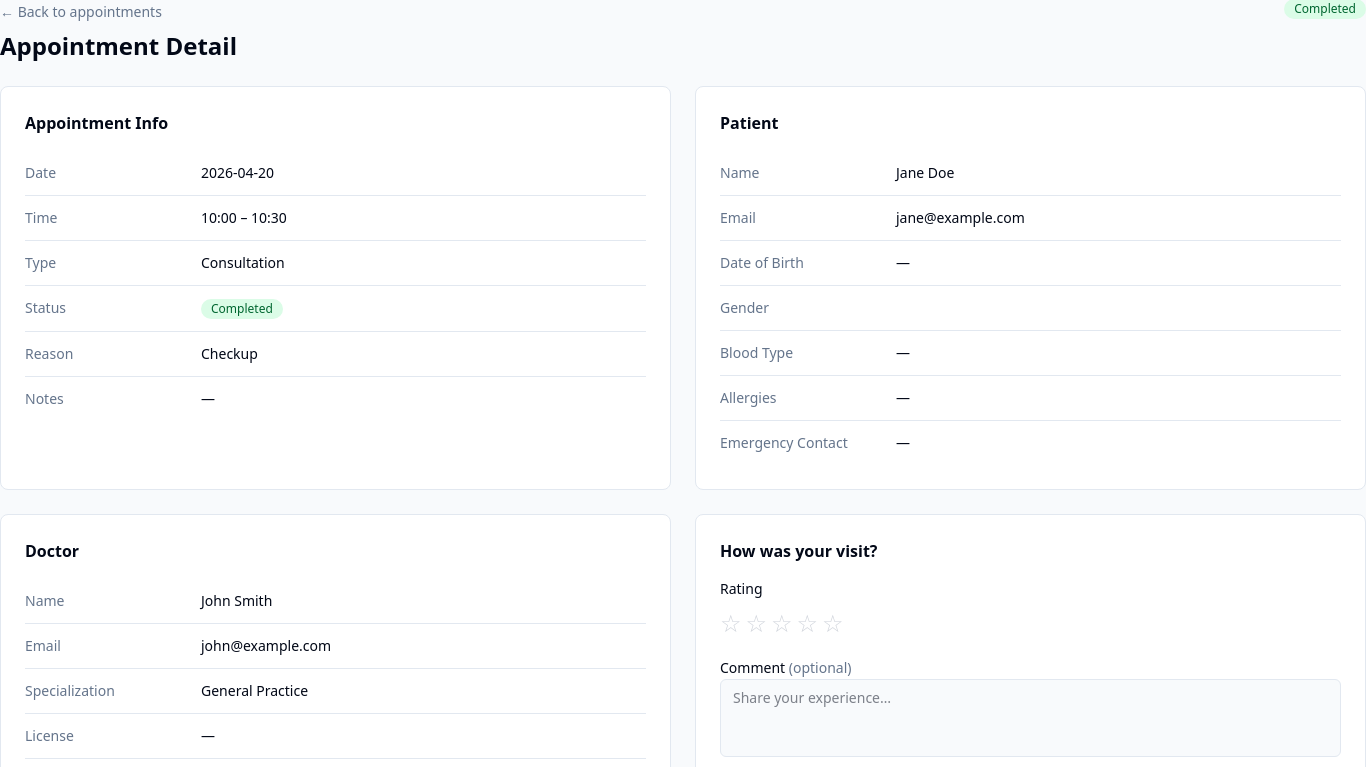
Test: AppointmentDetailPage — Review Section › submits a review successfully
The image size is (1366, 767).
// Click 4th star
Click the button with test id "star-4" at {"x": 807, "y": 623}, box [796,607,818,639]
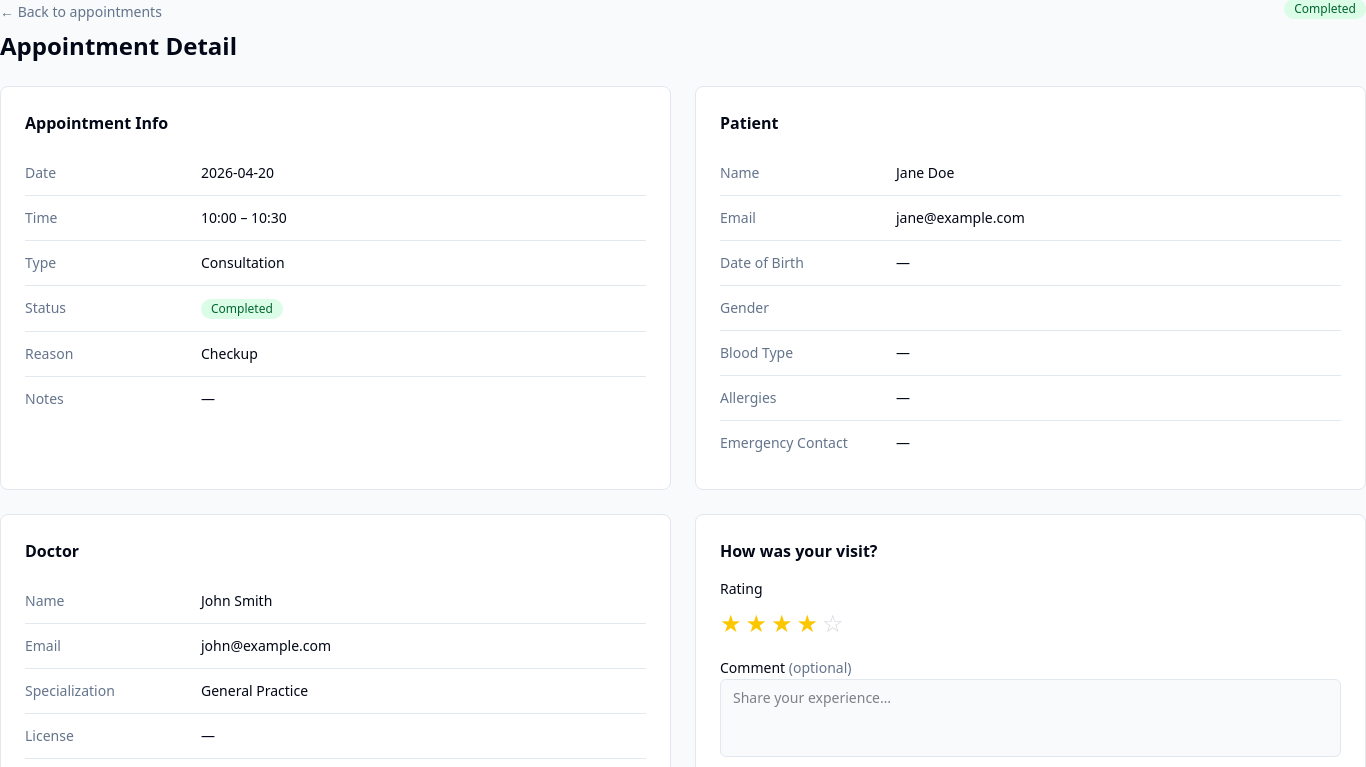
// Enter comment
Type "Great doctor!" into the text box with test id "review-comment-input" at {"x": 1030, "y": 718}, box [720,679,1341,757]
(page scrolled)
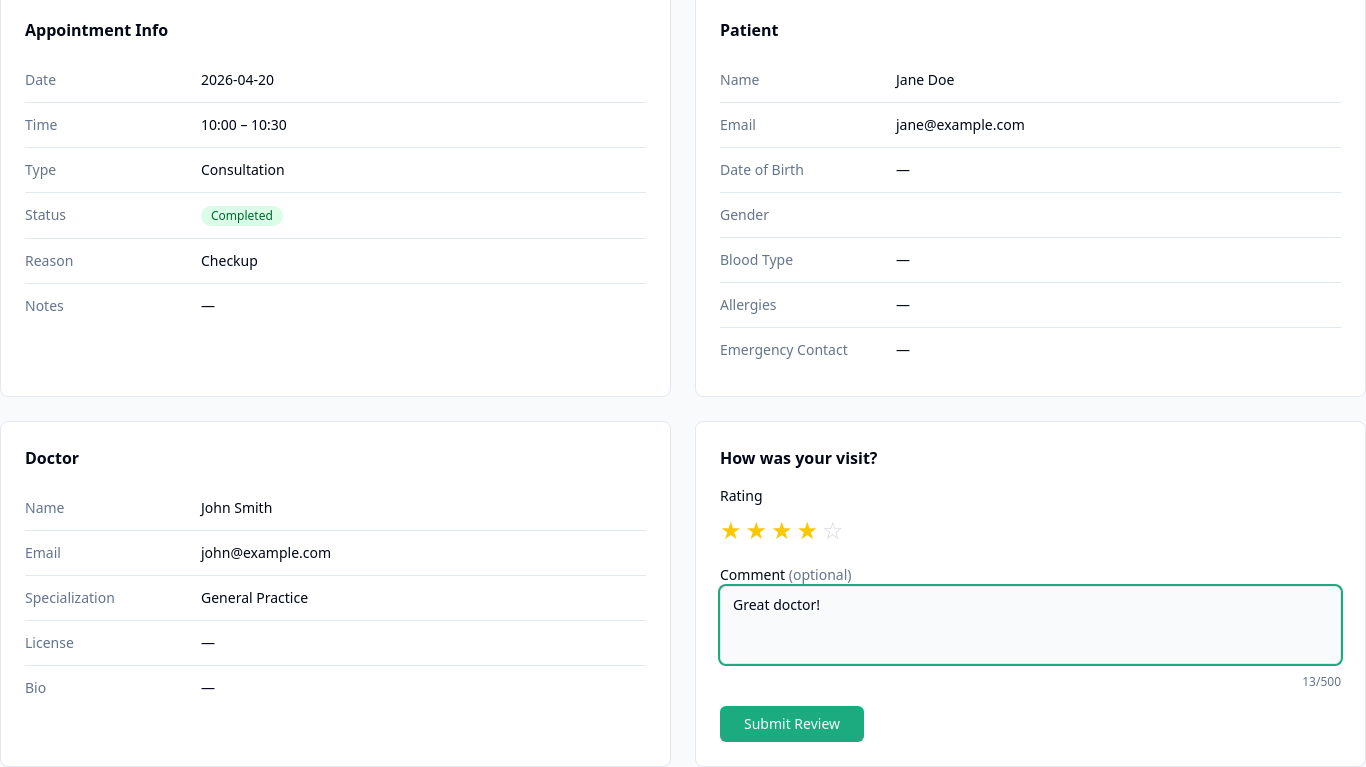
Click the button with test id "review-submit" at {"x": 792, "y": 724}, box [720,706,864,742]
(page scrolled)
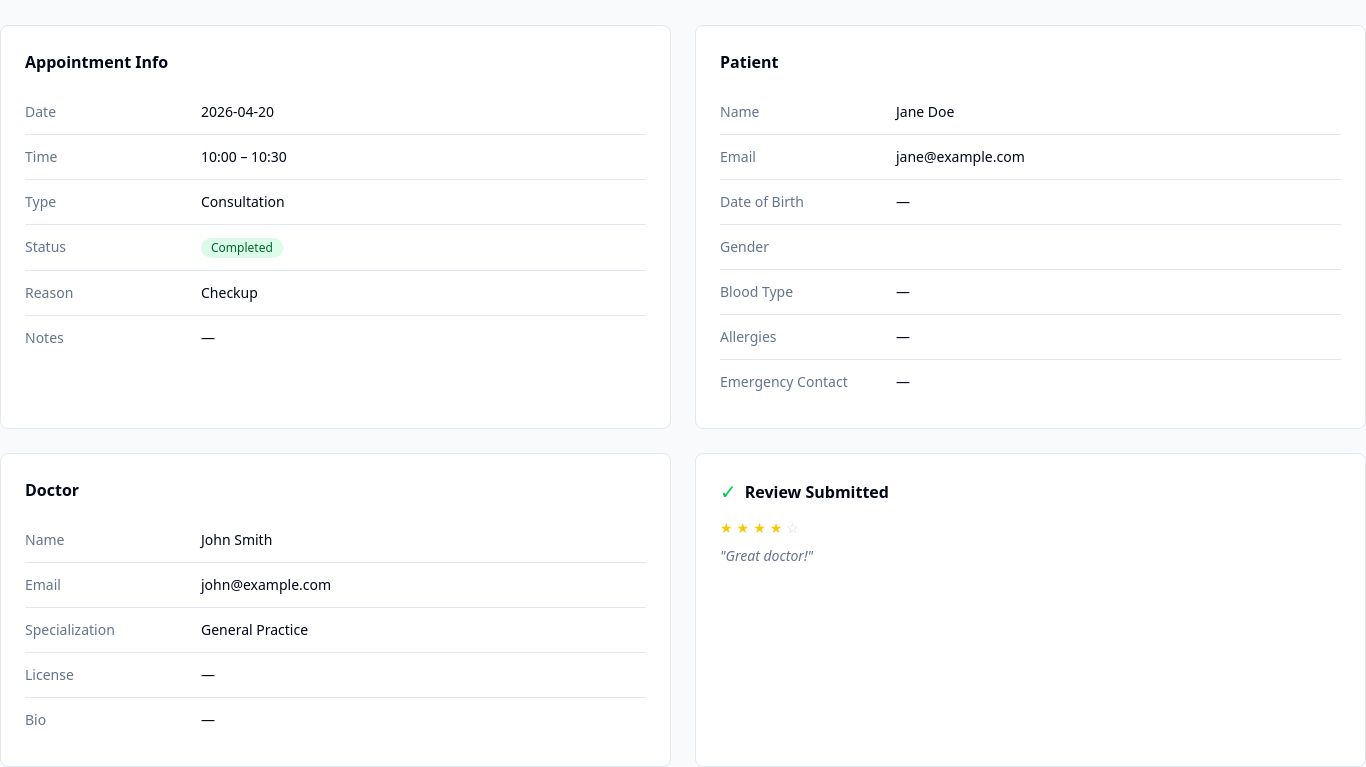
expect the element with test id "review-submitted" is shown: met, box [695,453,1365,766]
